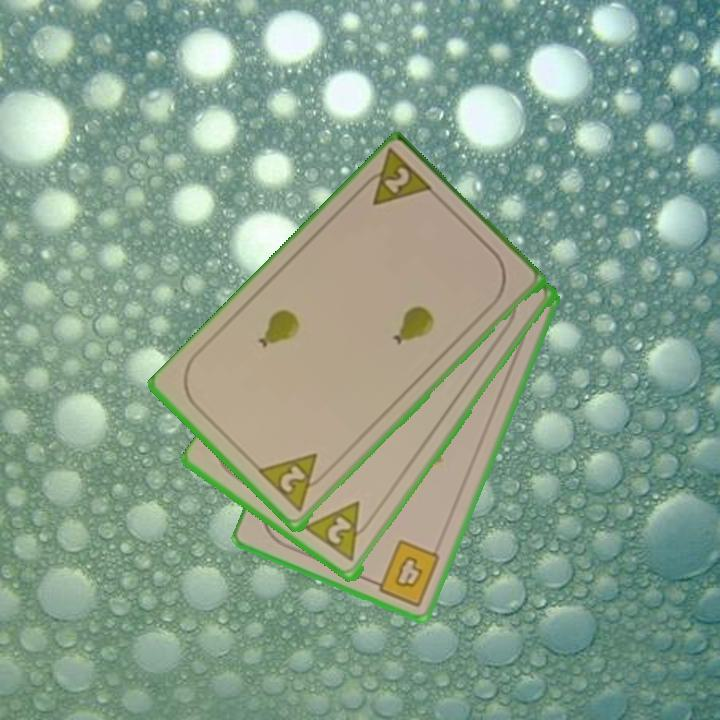2p: (354, 147, 438, 210), (302, 498, 377, 565), (256, 450, 332, 515)
4b: (365, 536, 444, 610)
